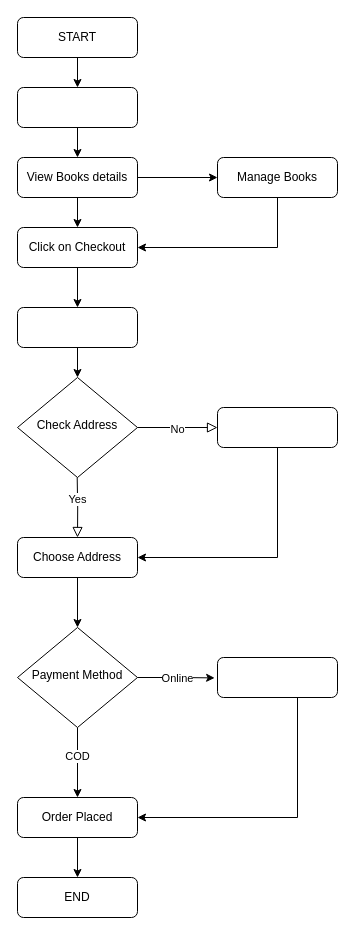
Image size: 355x935. Some labels were removed from this diagram. Here are the shapes that lost their labels. From the top down, the centre of each, then its label:
At point (77, 107): "Go to cart".
At point (77, 327): "Calculate total price".
At point (277, 427): "Add New Address".
At point (277, 677): "Make Payment".
